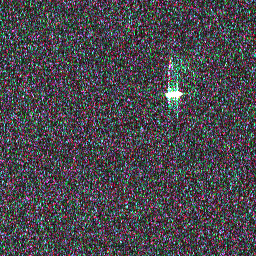ship: (162, 90, 184, 99)
